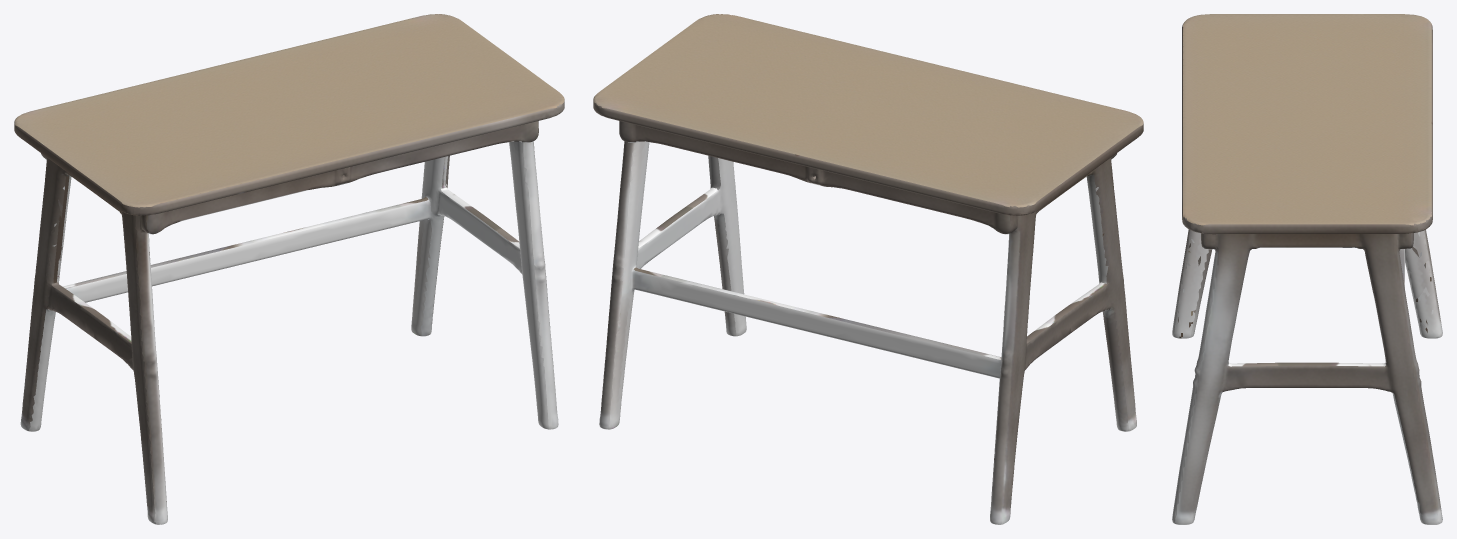
Rendered from desk__desk#3.glb.
The picture shows the model from 3 angles, left to right: view 1: azimuth 30°, elevation 25°; view 2: azimuth 150°, elevation 25°; view 3: azimuth 270°, elevation 25°; orthographic projection. The views are drawn at different scales.
Parts seen in each view (by area): view 1: tmppegy48nc.ply; view 2: tmppegy48nc.ply; view 3: tmppegy48nc.ply.
Boxes of the visible parts, box(x1,y1,x2,y2) form: tmppegy48nc.ply: box(14, 14, 564, 524); tmppegy48nc.ply: box(593, 14, 1143, 524); tmppegy48nc.ply: box(1172, 14, 1442, 524).
Size of the model in its own units: 1.99 by 1.36 by 1.08.
Materials: 1 (1 with a texture image).
